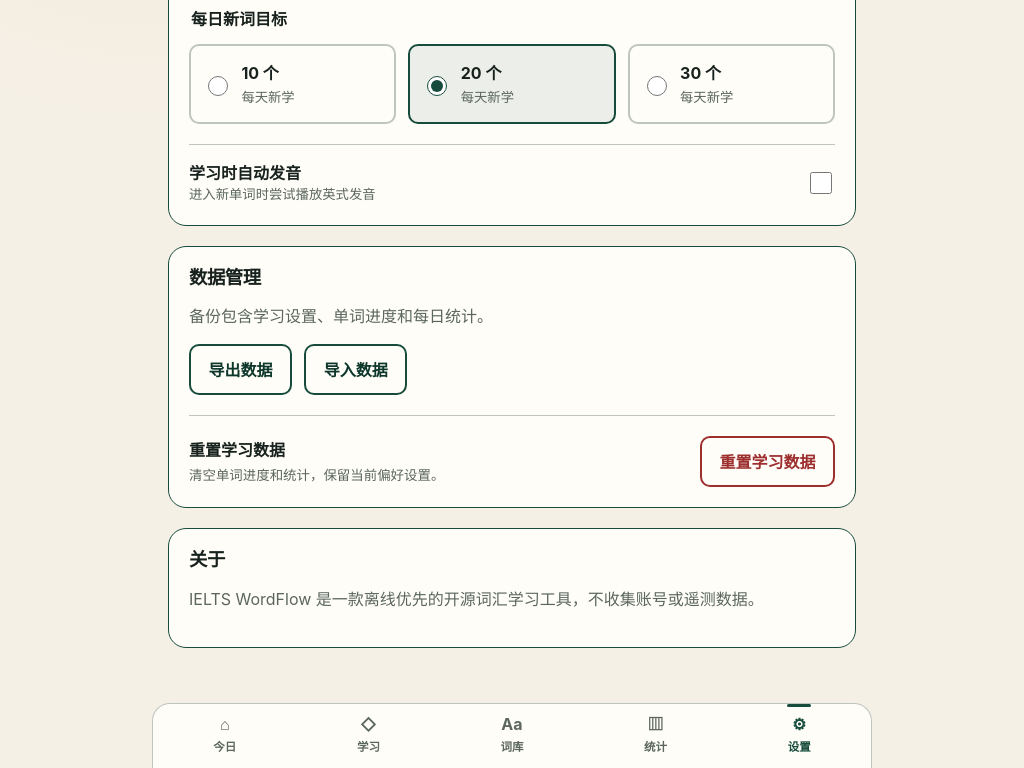
Test: SettingsPage › keeps reset confirmation active with an actionable error when reset fails
(page scrolled)
Click the button "重置学习数据" at (767, 462), box [700,436,835,487]
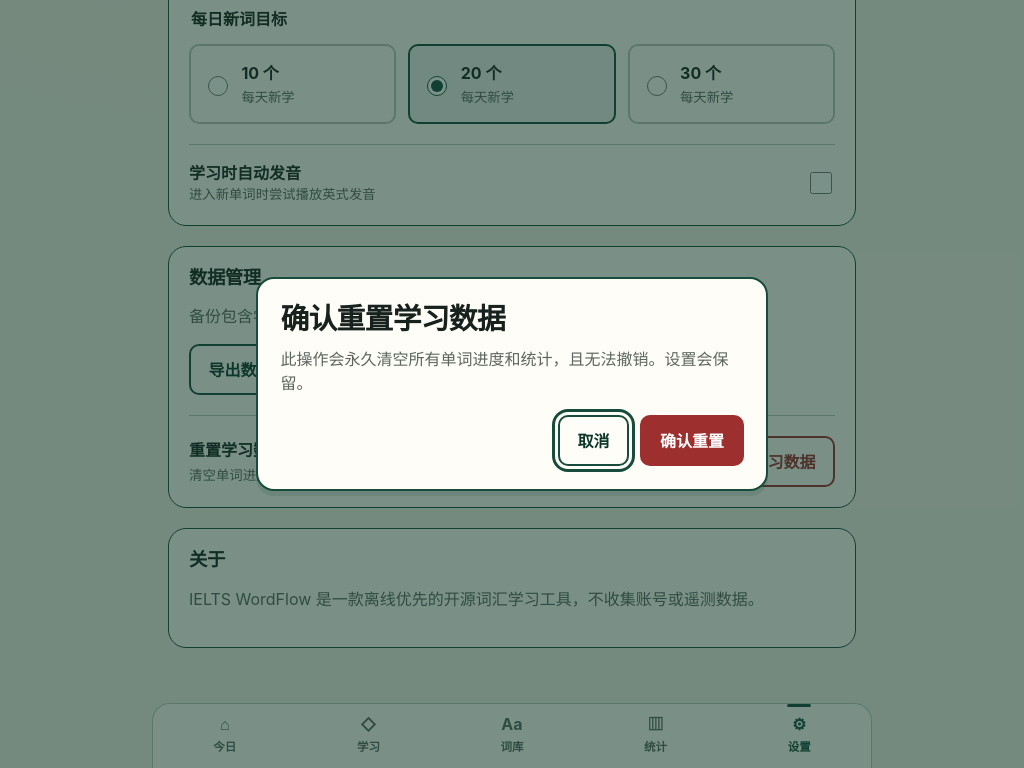
Click the button "确认重置" at (692, 441), box [640,415,744,466]
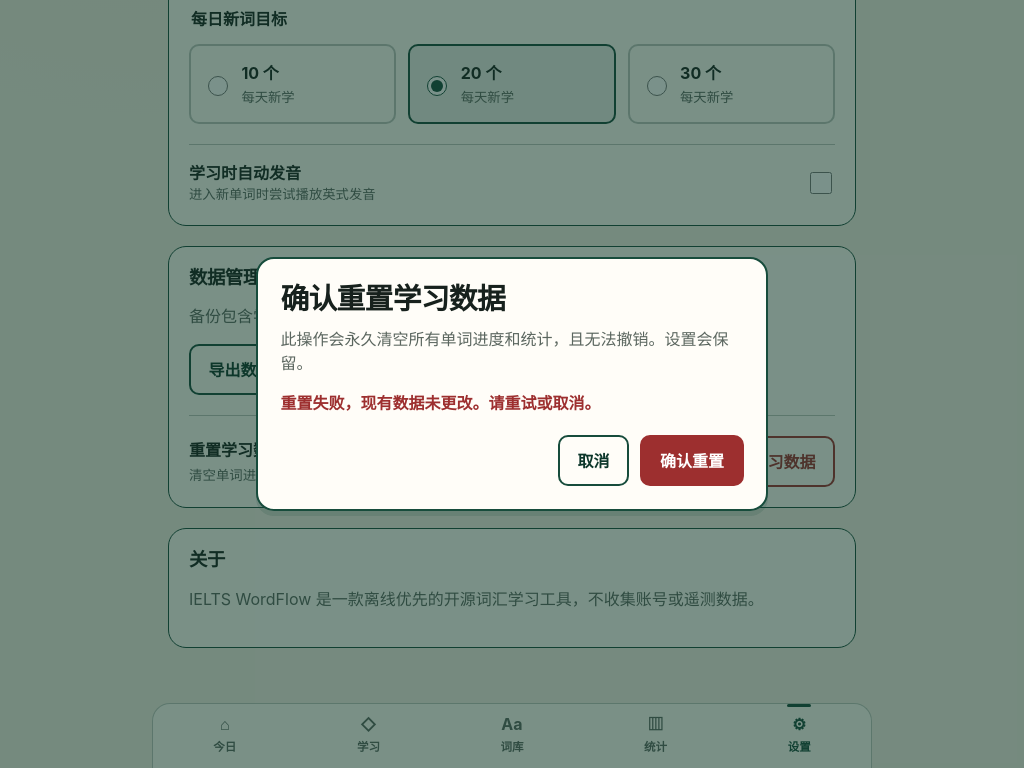
Expected: the button "确认重置" is enabled, [640,435,744,486]
Expected: the button "取消" is enabled, [558,435,629,486]
Expected: the message reads "重置失败，现有数据未更改。请重试或取消。", [280,393,600,413]
